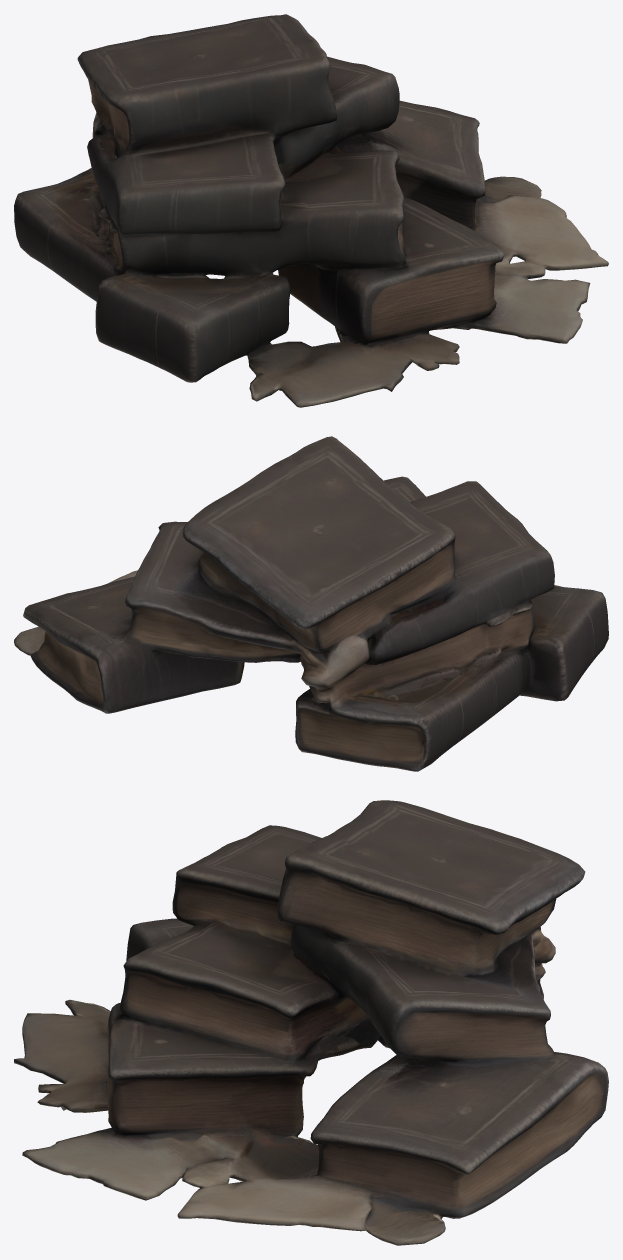
Rendered from scattered_books.glb.
3 renders of one model, top to bottom at view 1: azimuth 30°, elevation 25°; view 2: azimuth 150°, elevation 25°; view 3: azimuth 270°, elevation 25°, orthographic. The views are drawn at different scales.
Size of the model in its own units: 2 by 0.9071 by 1.9.
Materials: 1 (1 with a texture image).
